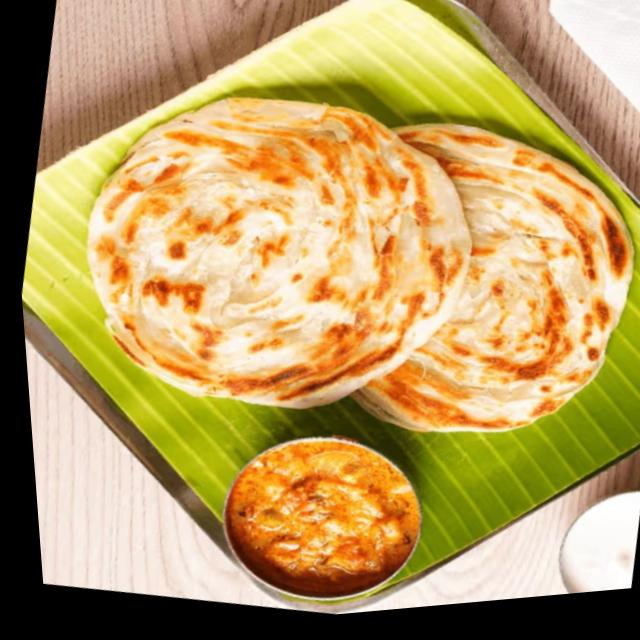KURMA: (218, 436, 423, 602)
PAROTTA: (86, 54, 640, 426)
